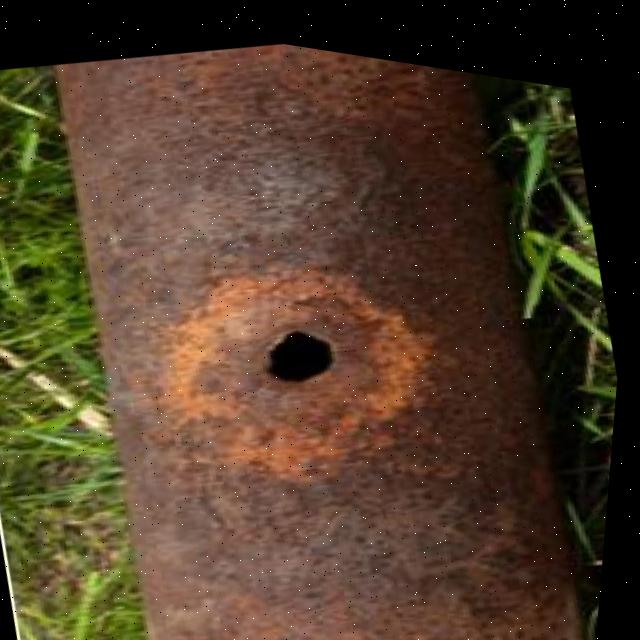hole: (253, 295, 358, 394)
